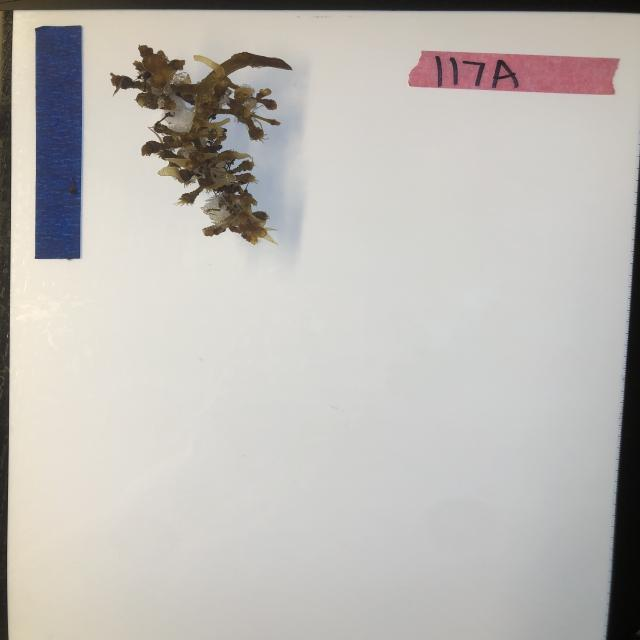index: (408, 47, 622, 96)
measure_label: (34, 24, 85, 261)
rachis_cluster: (107, 42, 295, 250)
